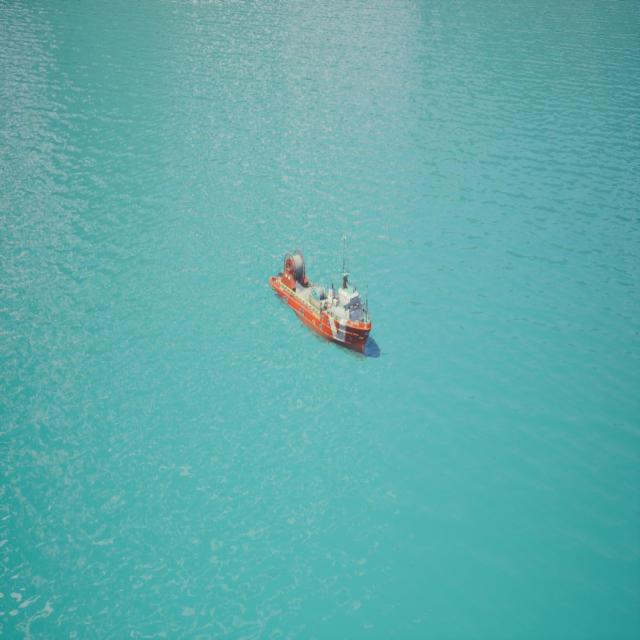tug boat: (270, 267, 378, 361)
